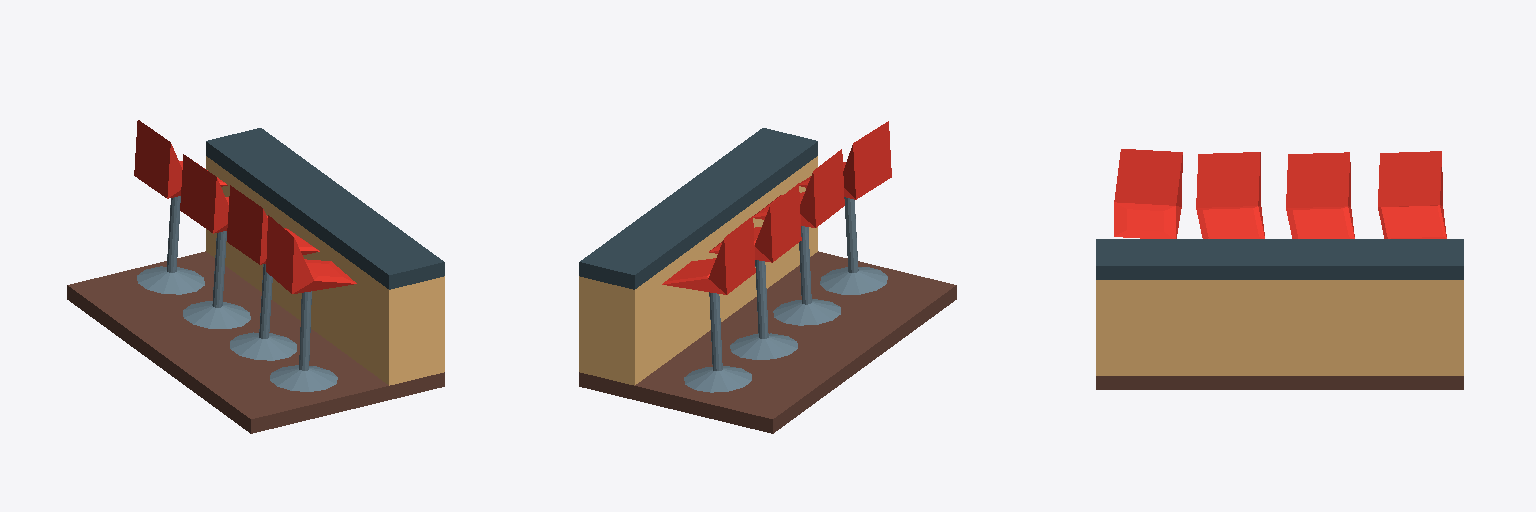
The picture shows the model from 3 angles: view 1: azimuth 30°, elevation 25°; view 2: azimuth 150°, elevation 25°; view 3: azimuth 270°, elevation 25°; orthographic projection.
Parts seen in each view (by area): view 1: group[number redacted], group[number redacted], group[number redacted], group[number redacted], group[number redacted], group[number redacted]; view 2: group[number redacted], group[number redacted], group[number redacted], group[number redacted], group[number redacted], group[number redacted]; view 3: group[number redacted], group[number redacted], group[number redacted], group[number redacted], group[number redacted], group[number redacted].
Boxes of the visible parts, box(x1,y1,x2,y2) form: group[number redacted]: box(206, 128, 444, 385); group[number redacted]: box(67, 251, 444, 433); group[number redacted]: box(266, 215, 356, 391); group[number redacted]: box(134, 120, 227, 294); group[number redacted]: box(180, 154, 267, 328); group[number redacted]: box(227, 185, 319, 360); group[number redacted]: box(579, 128, 817, 385); group[number redacted]: box(579, 251, 956, 433); group[number redacted]: box(662, 216, 755, 392); group[number redacted]: box(799, 121, 891, 294); group[number redacted]: box(709, 183, 801, 359); group[number redacted]: box(753, 149, 844, 325); group[number redacted]: box(1096, 239, 1463, 375); group[number redacted]: box(1114, 149, 1182, 238); group[number redacted]: box(1378, 151, 1446, 238); group[number redacted]: box(1196, 152, 1264, 238); group[number redacted]: box(1286, 152, 1354, 238); group[number redacted]: box(1096, 376, 1463, 389).
Bounding box in the file's own units: 1.12 × 0.9637 × 1.84.